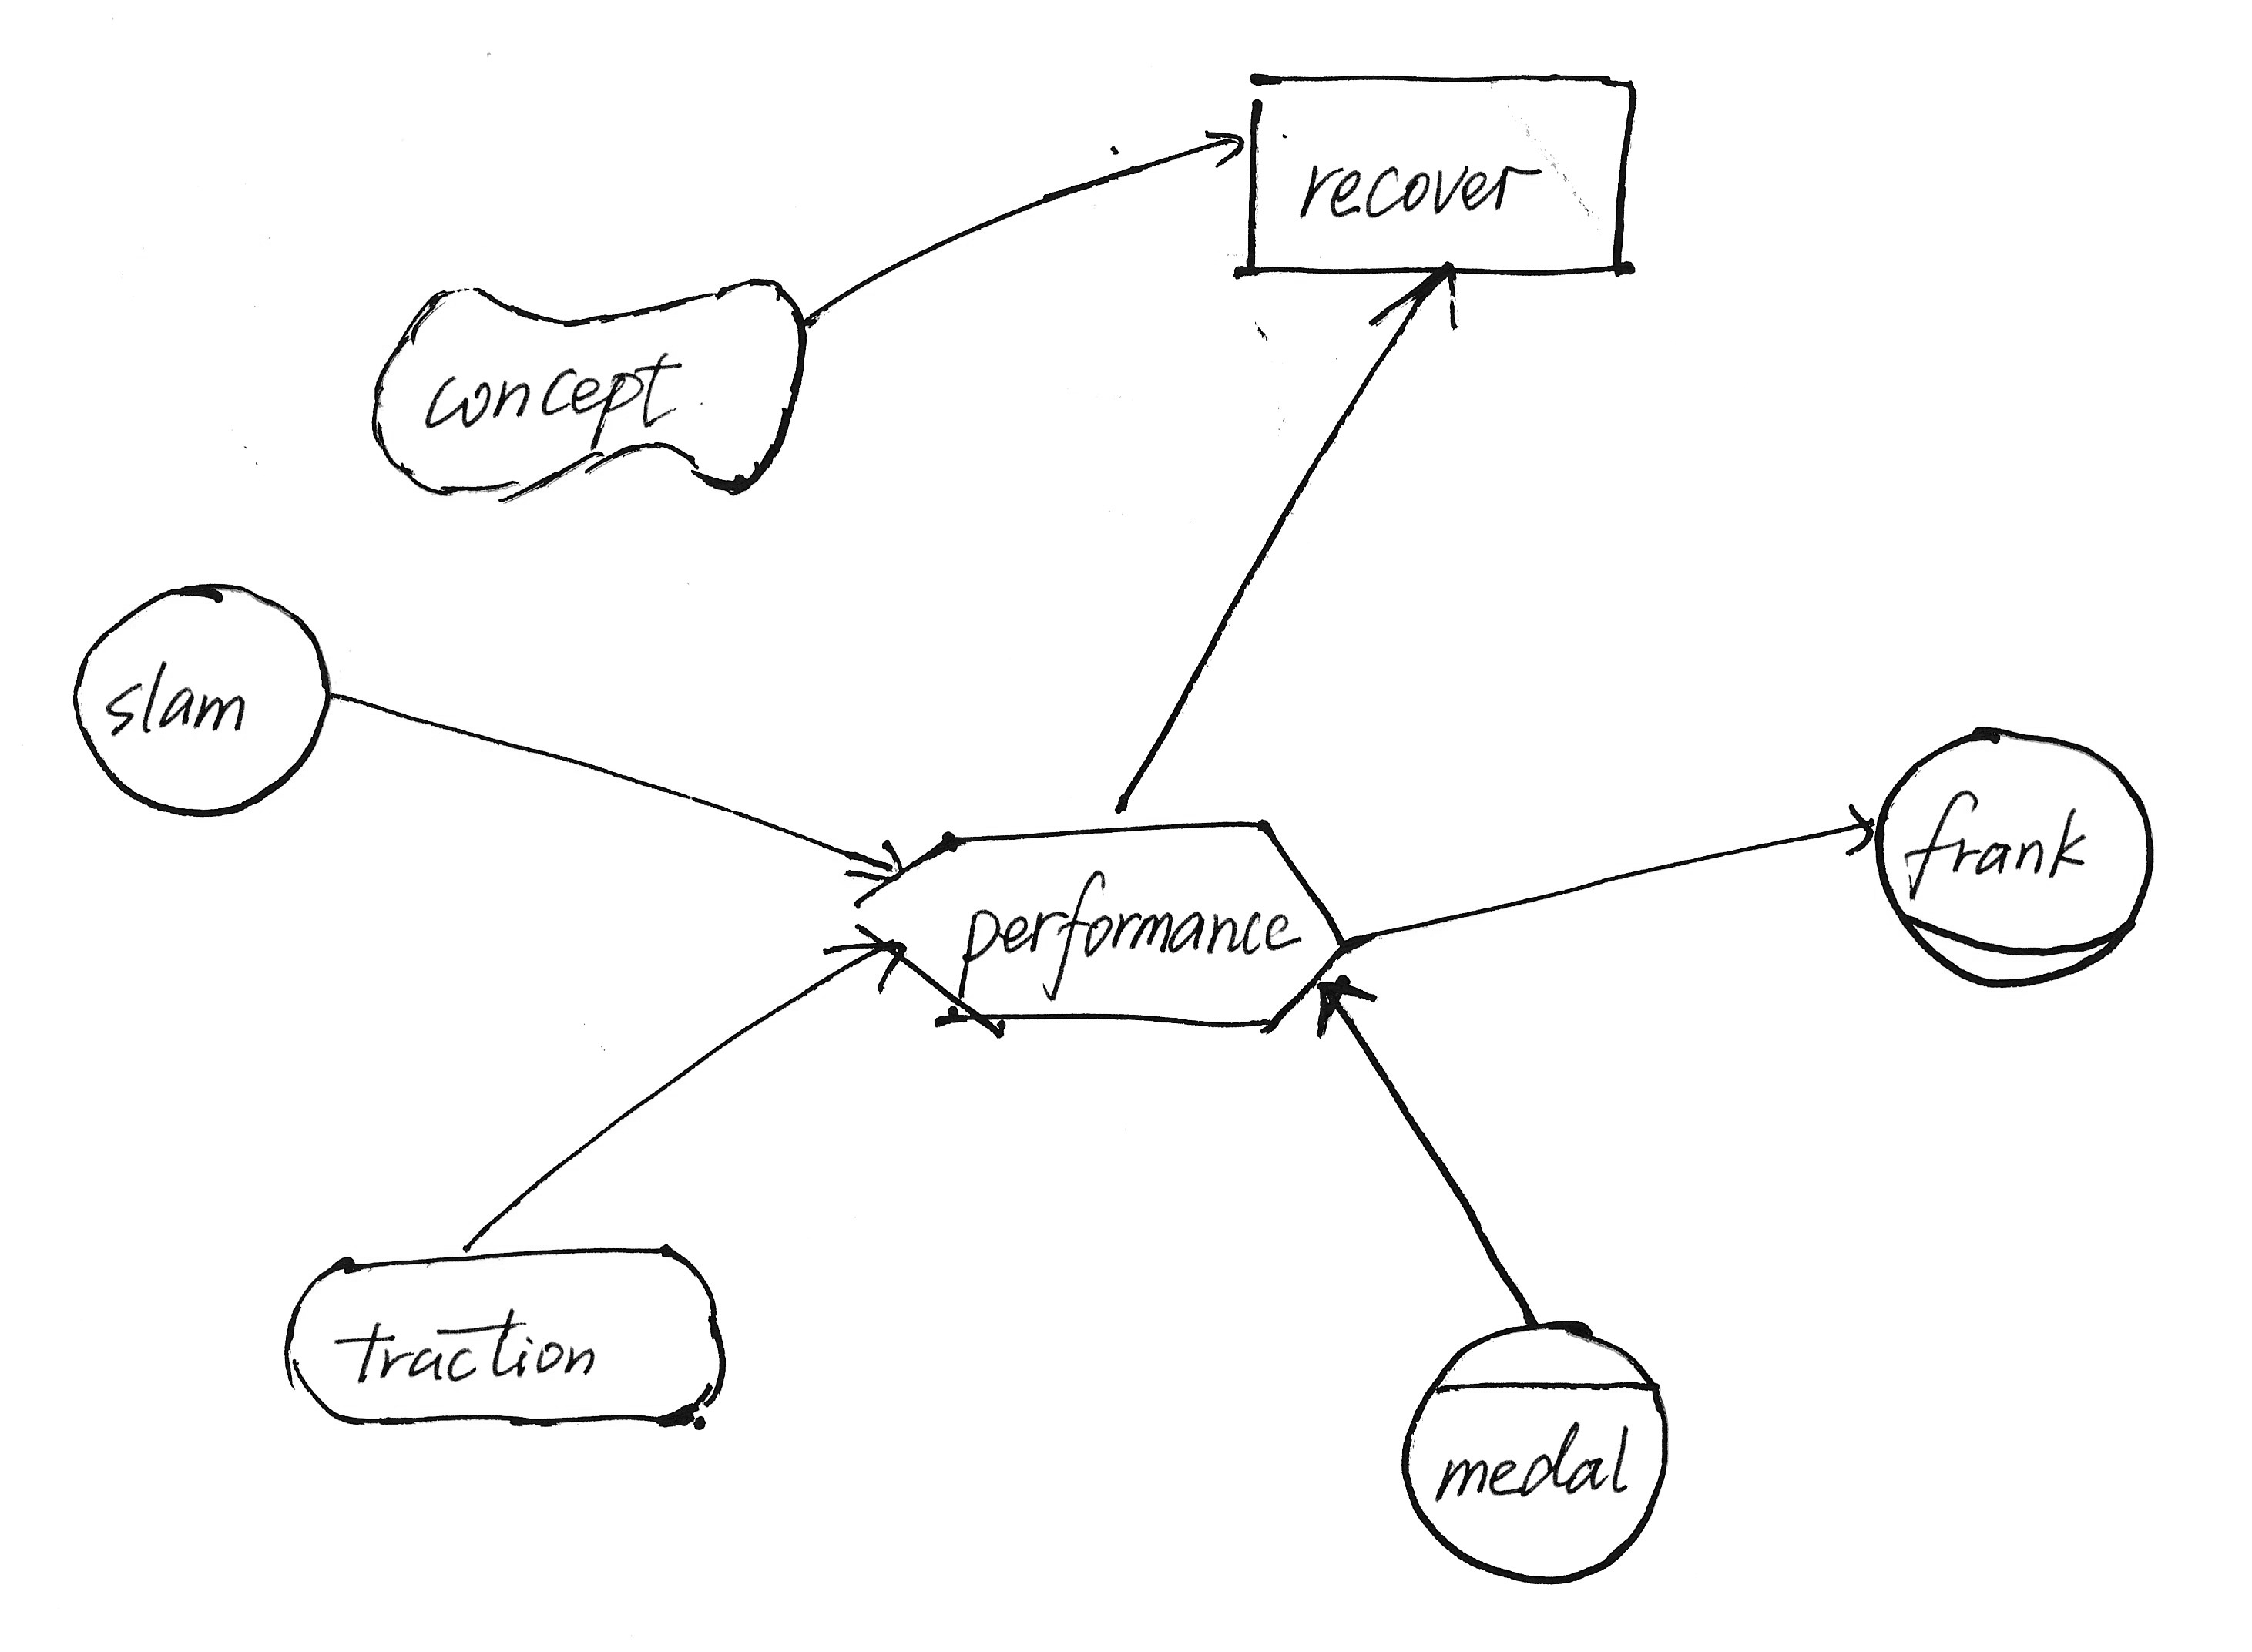actor: (56, 568, 344, 837)
agent: (1394, 1302, 1684, 1594)
arrow: (1366, 250, 1467, 343), (822, 916, 918, 995), (834, 825, 918, 900), (1301, 968, 1380, 1047), (1831, 783, 1892, 876), (1189, 115, 1250, 177)
goal: (271, 1224, 748, 1444)
quality: (350, 260, 822, 507)
resource: (1226, 59, 1654, 299)
role: (1862, 713, 2163, 1003)
task: (831, 809, 1359, 1042)
